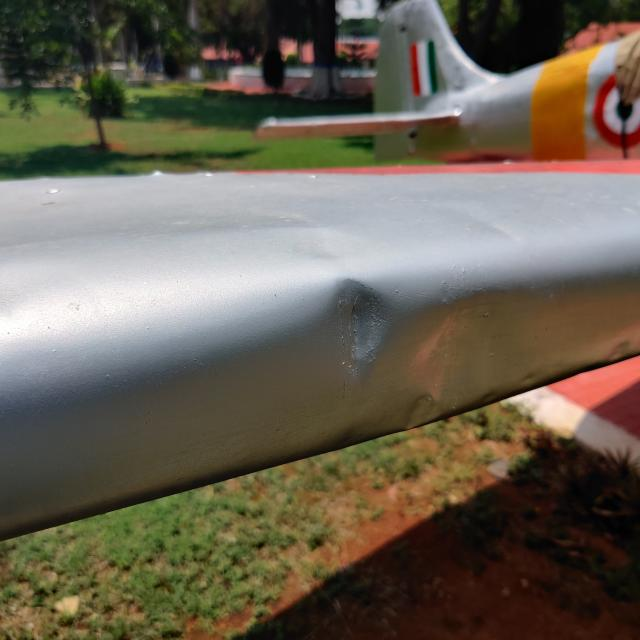dent: (391, 278, 514, 438), (309, 269, 412, 382)
